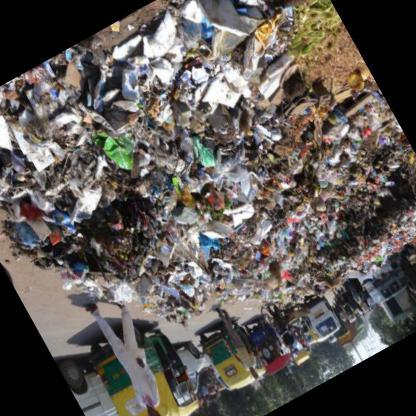Garbage: (57, 46, 254, 272), (92, 100, 276, 317), (92, 14, 268, 190), (245, 108, 414, 282), (0, 66, 102, 243)
